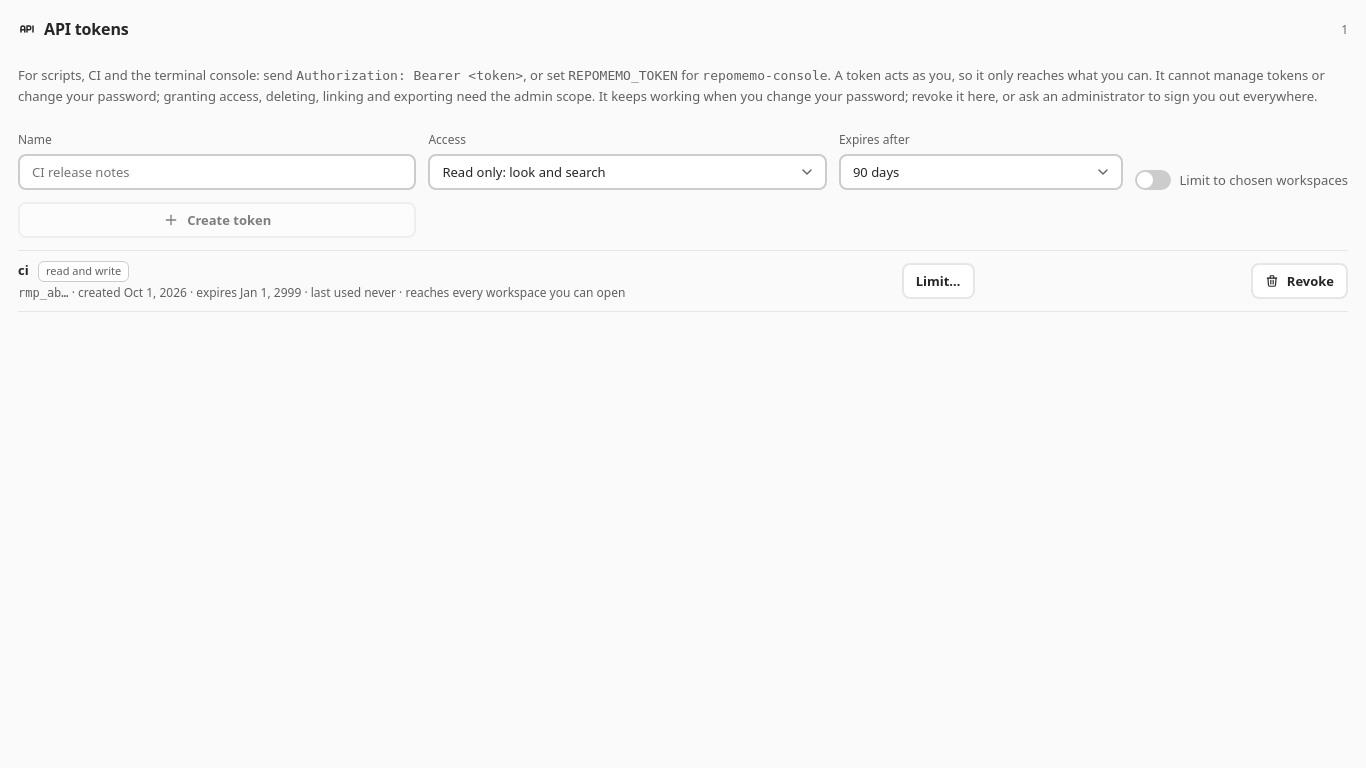
Test: says what each token reaches and narrows an unlimited one
Expected: the text "reaches every workspace you can open" is shown, [405,284,625,301]
Click the button with aria-label "Limit ci to workspaces": (938, 281) [902,263,974,299]
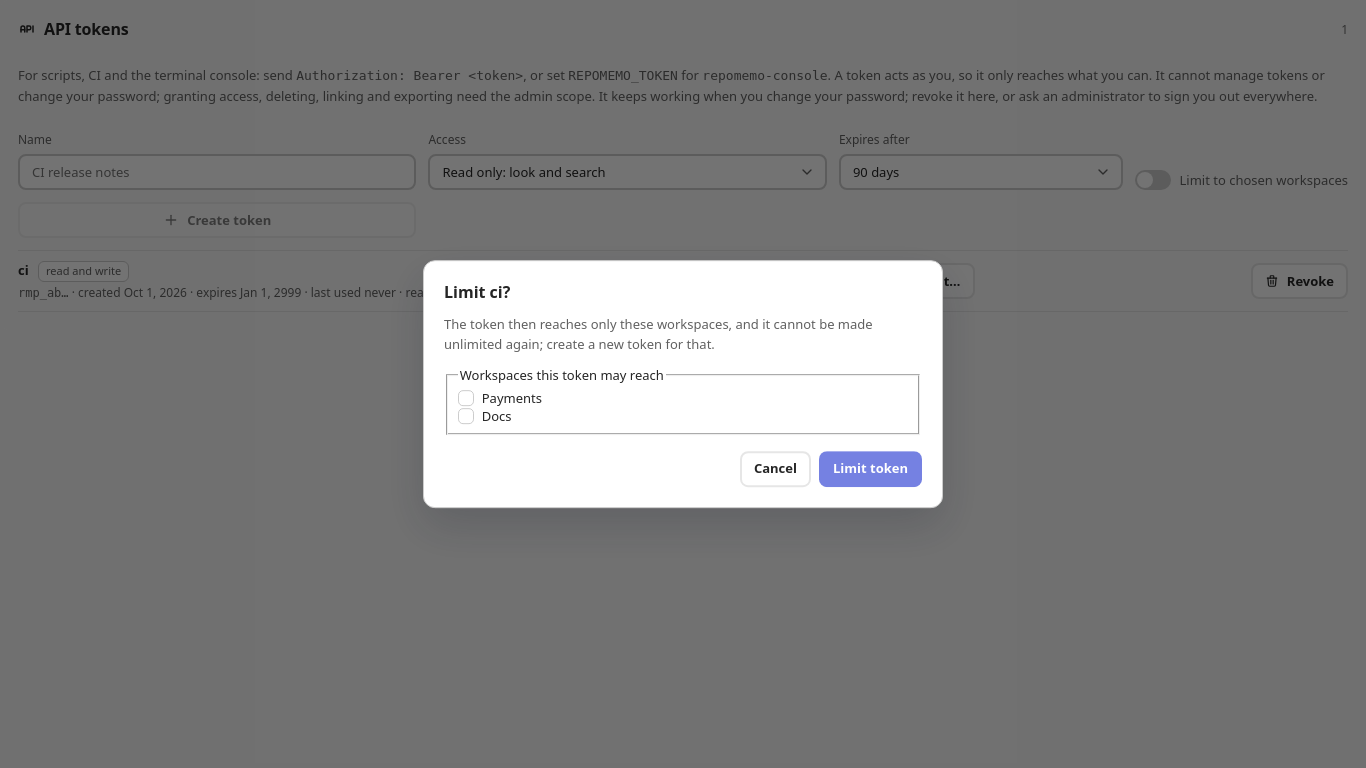
Expected: the button "Limit token" is disabled, [819,451,922,487]
Click the checkbox named "Payments" next to "Payments": (466, 398) [458,390,474,406]
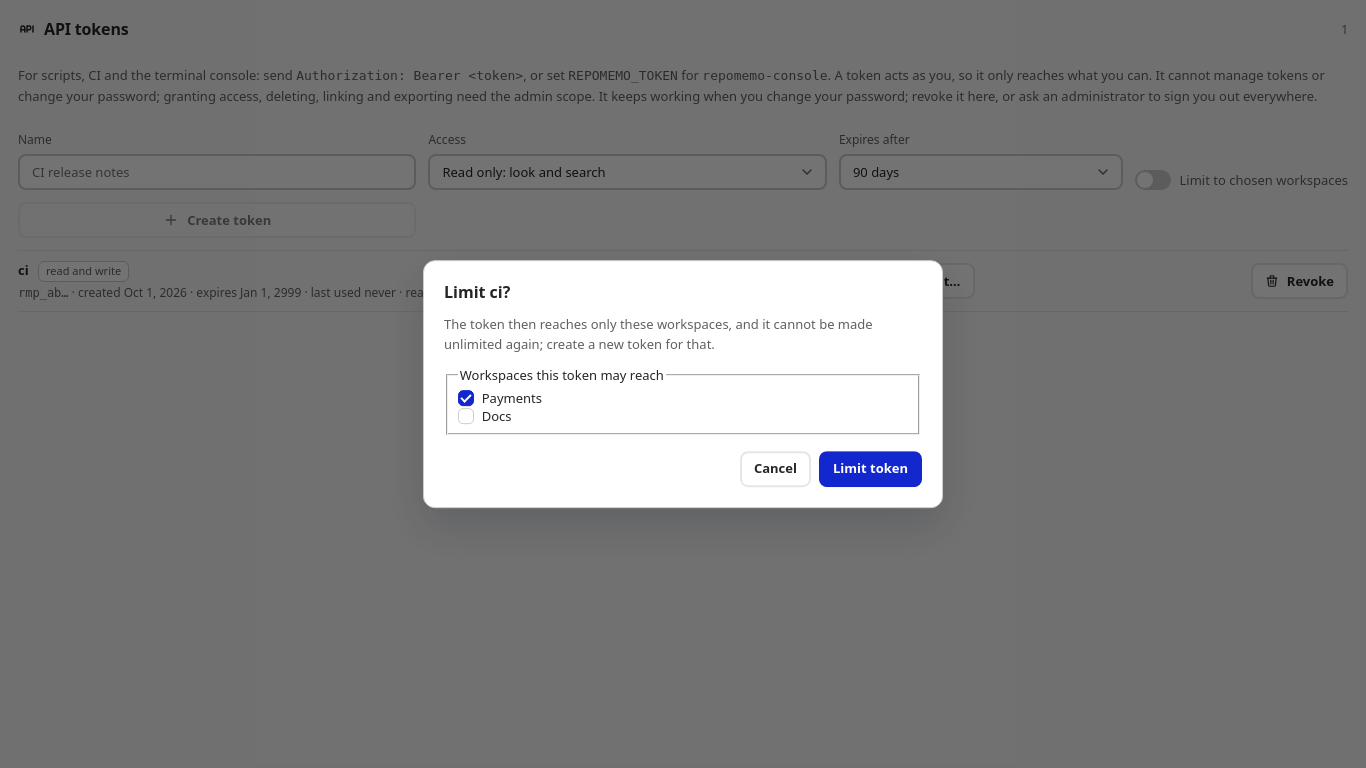
Expected: the button "Limit token" is enabled
Click the button "Limit token": (870, 469) [819,451,922,487]
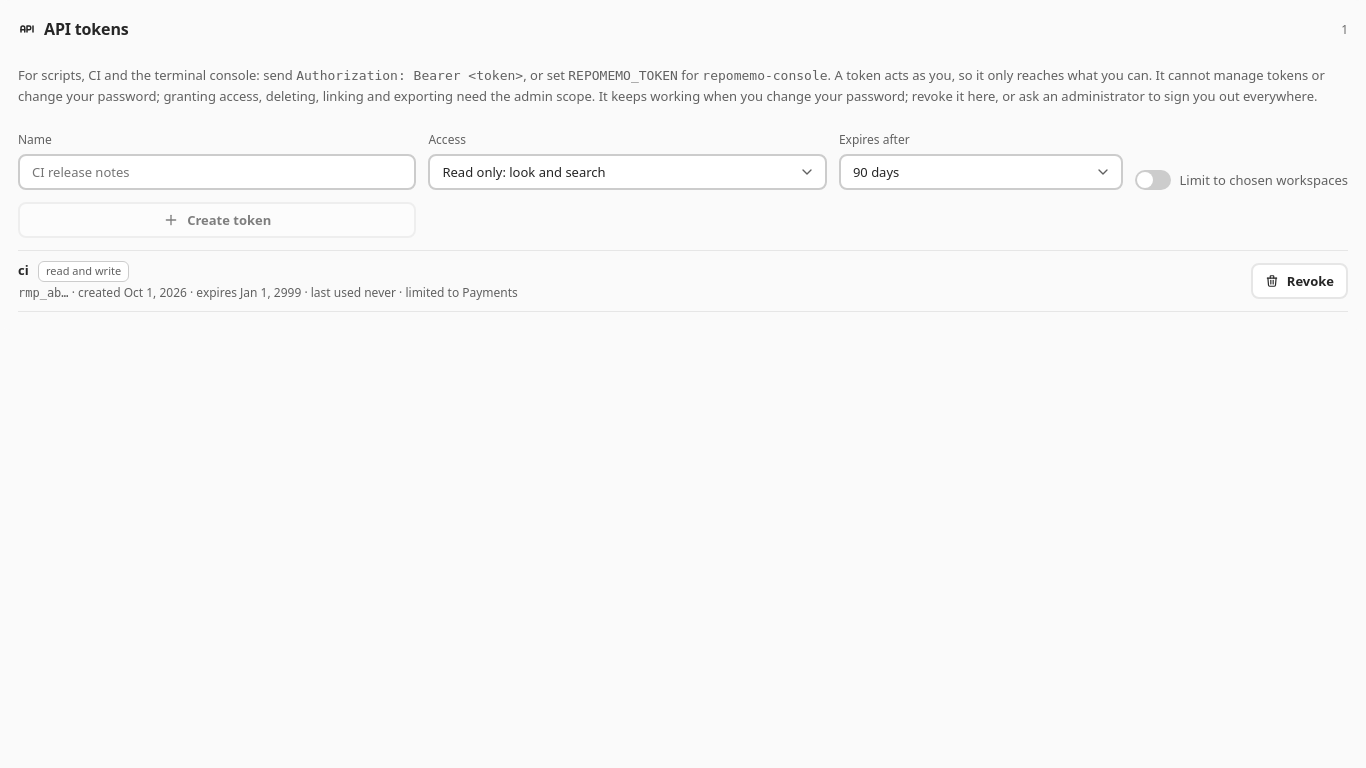
Expected: the text "limited to Payments" is shown, [405,284,518,301]
